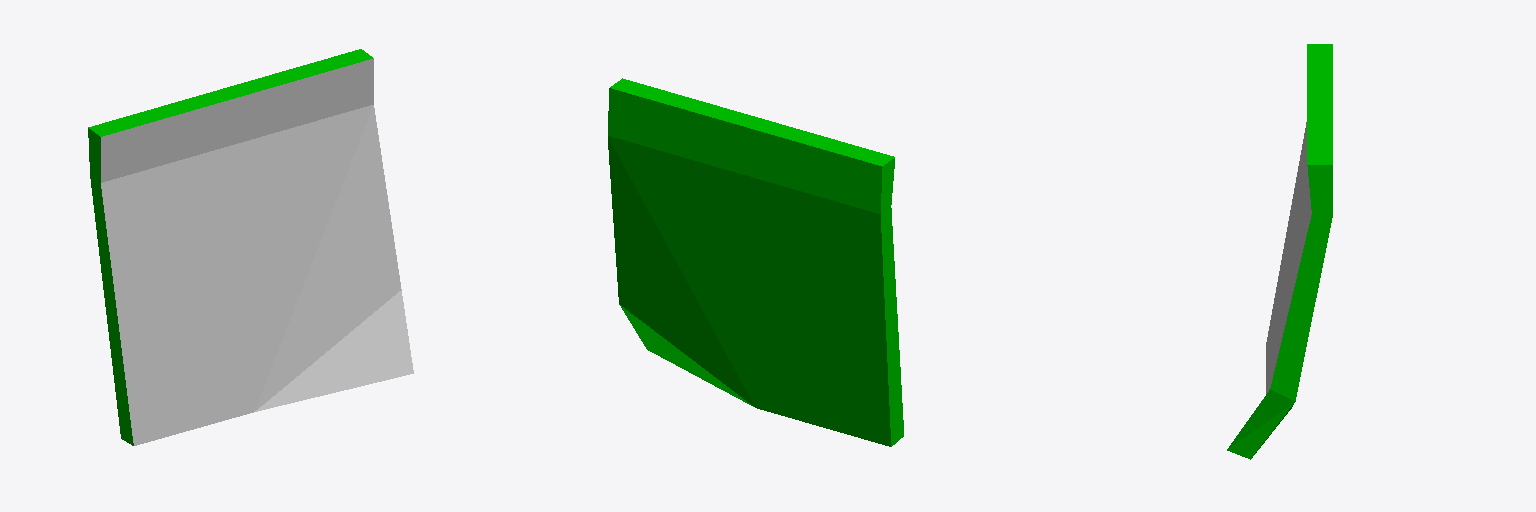
The model's file is post-it_taches.03.obj.
3 renders of one model, left to right at view 1: azimuth 30°, elevation 25°; view 2: azimuth 150°, elevation 25°; view 3: azimuth 270°, elevation 25°, orthographic.
Visible parts, largest first — view 1: post-it_taches.03; view 2: post-it_taches.03; view 3: post-it_taches.03.
Boxes of the visible parts, <box> form: post-it_taches.03: <box>88,49,413,445</box>; post-it_taches.03: <box>608,78,903,446</box>; post-it_taches.03: <box>1227,44,1332,459</box>.
Size of the model in its own units: 0.1483 by 0.156 by 0.0485.